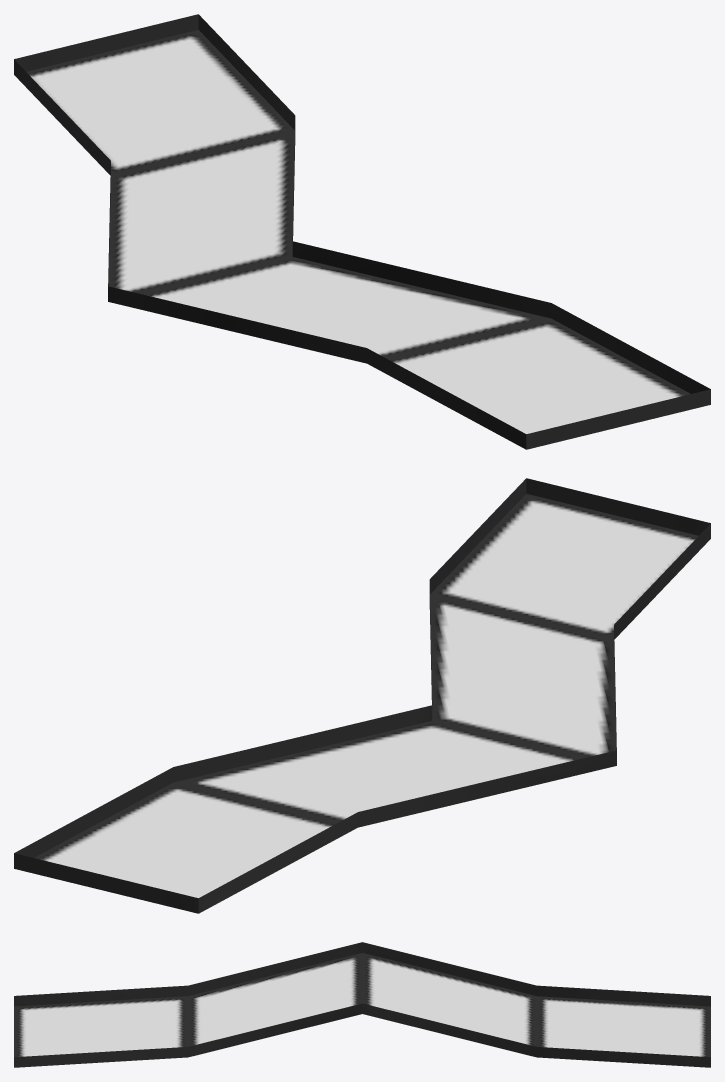
File: Lights_Big.fbx
3 views of the same model, one above another, from view 1: azimuth 30°, elevation 25°; view 2: azimuth 150°, elevation 25°; view 3: azimuth 270°, elevation 25° (orthographic). The views are drawn at different scales.
Parts seen in each view (by area): view 1: Lights_Big.002; view 2: Lights_Big.002; view 3: Lights_Big.002.
Boxes of the visible parts, x1,y1,x2,y2 form: Lights_Big.002: (14, 14, 710, 449); Lights_Big.002: (14, 478, 710, 913); Lights_Big.002: (14, 942, 710, 1067).
Bounding box in the file's own units: 55.55 × 2.39 × 142.
Materials: 1 (1 with a texture image).
